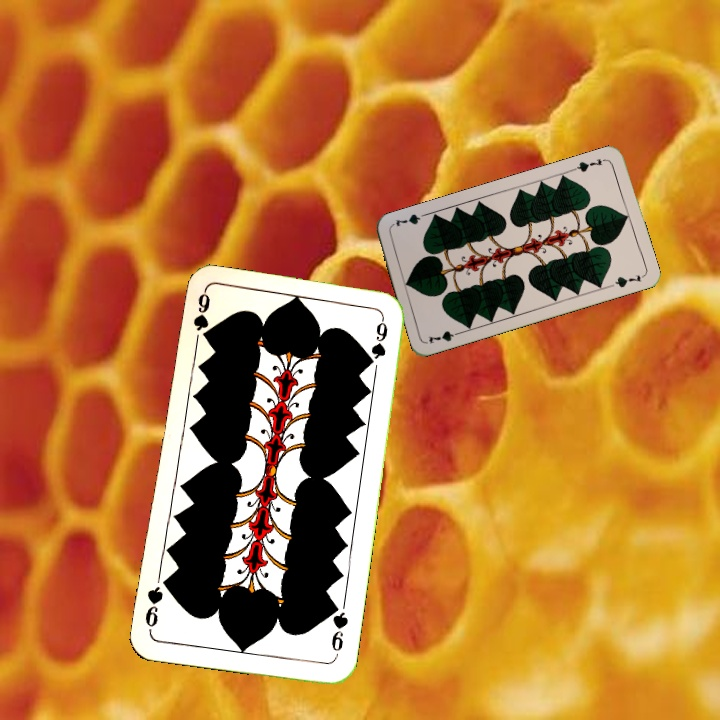G7: (424, 326, 465, 346), (569, 155, 609, 175)
G9: (327, 600, 351, 660), (189, 289, 212, 348)
